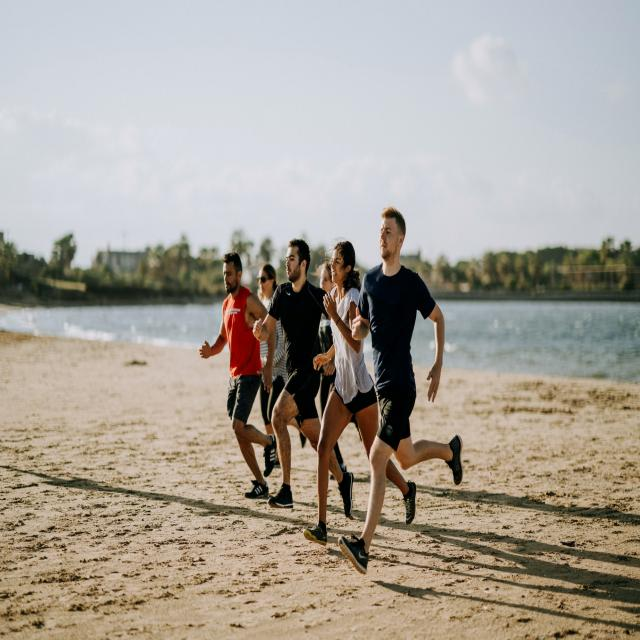adult: (338, 203, 462, 578), (304, 240, 417, 545), (268, 239, 351, 514), (200, 250, 276, 500), (256, 261, 284, 459)
